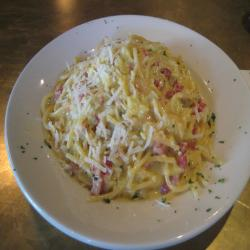carbonara: (42, 32, 223, 216)
